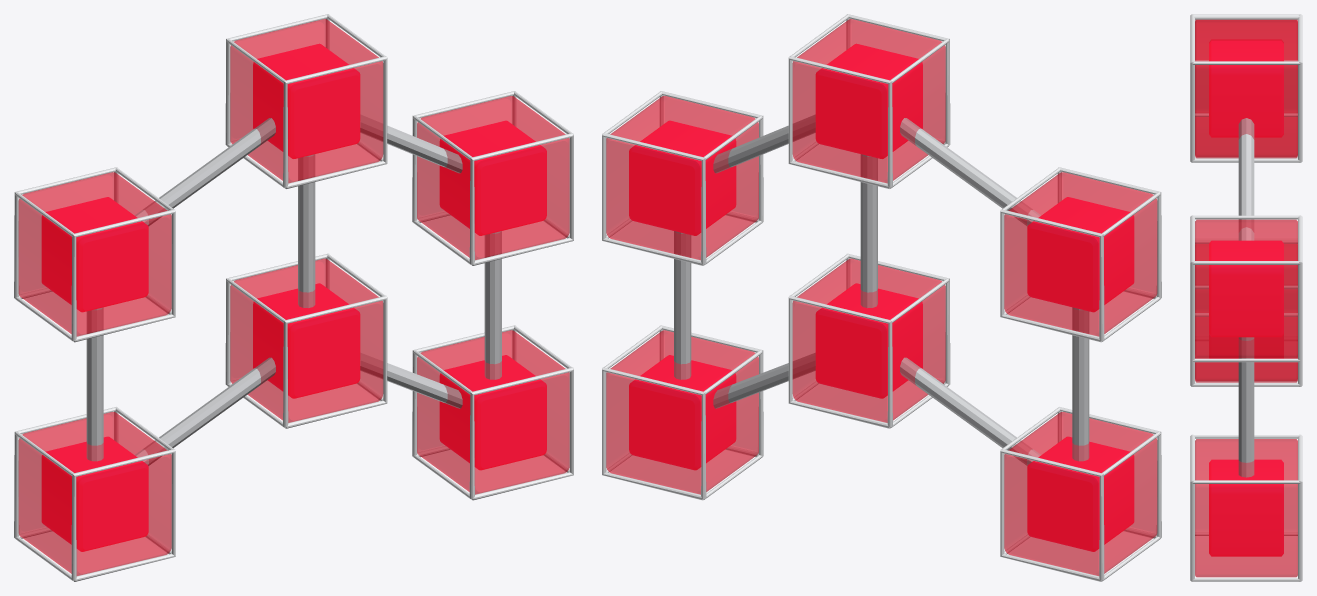
File: 32-data-model.glb
3 renders of one model, left to right at view 1: azimuth 30°, elevation 25°; view 2: azimuth 150°, elevation 25°; view 3: azimuth 270°, elevation 25°, orthographic. The views are drawn at different scales.
Parts seen in each view (by area): view 1: BC ruby optical glass, BC internal ruby light, BC polished iron bevel, BC satin iron; view 2: BC ruby optical glass, BC internal ruby light, BC polished iron bevel, BC satin iron; view 3: BC ruby optical glass, BC internal ruby light, BC polished iron bevel, BC satin iron.
Boxes of the visible parts, x1,y1,x2,y2 form: BC ruby optical glass: (18,19,569,575); BC internal ruby light: (41,43,546,551); BC polished iron bevel: (14,14,573,581); BC satin iron: (86,115,501,465); BC ruby optical glass: (606,19,1157,575); BC internal ruby light: (629,43,1134,551); BC polished iron bevel: (602,14,1161,581); BC satin iron: (674,115,1089,465); BC ruby optical glass: (1195,19,1297,577); BC internal ruby light: (1209,40,1283,556); BC polished iron bevel: (1190,14,1302,581); BC satin iron: (1238,118,1254,477).
Bounding box in the file's own units: 2.02 × 1.79 × 0.4171.
